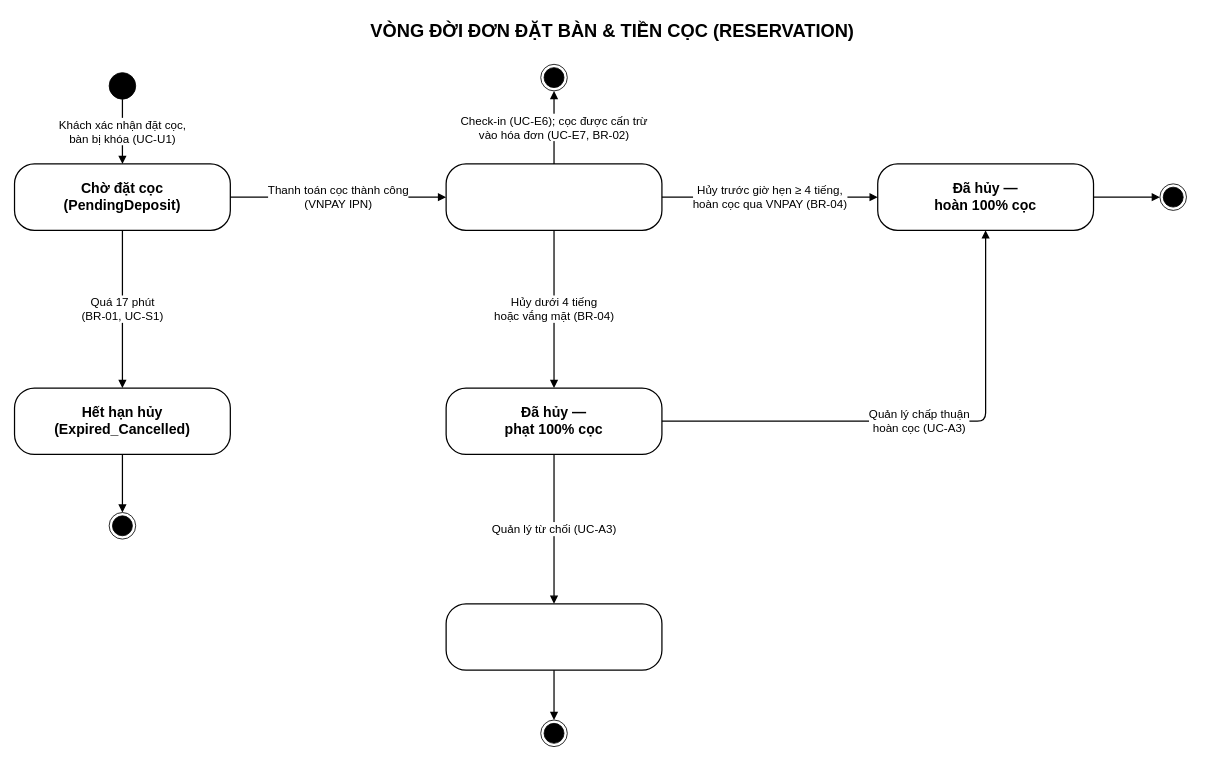
The diagram is 1224 pixels wide and 761 high, and some of its shapes have lost their labels. Each missing label, with the centre of its shape:
Bác bỏ hoàn cọc: the point at 553,636
Đã đặt (Reserved): the point at 553,197
